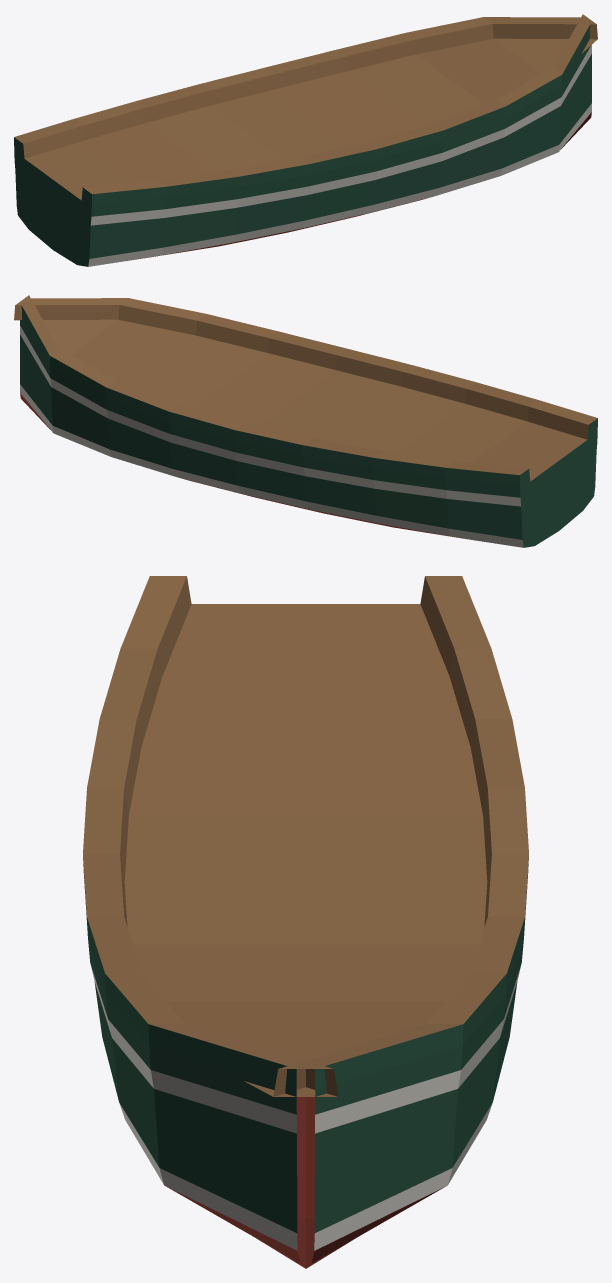
File: prop_dinghy.glb
3 renders of one model, top to bottom at view 1: azimuth 30°, elevation 25°; view 2: azimuth 150°, elevation 25°; view 3: azimuth 270°, elevation 25°, orthographic. The views are drawn at different scales.
Visible parts, largest first — view 1: prop_dinghy_hull; view 2: prop_dinghy_hull; view 3: prop_dinghy_hull.
Part boxes in pixels (<box>): prop_dinghy_hull: <box>14,14,597,266</box>; prop_dinghy_hull: <box>14,295,597,547</box>; prop_dinghy_hull: <box>83,576,528,1268</box>.
Bounding box in the file's own units: 4 × 0.808 × 1.44.
